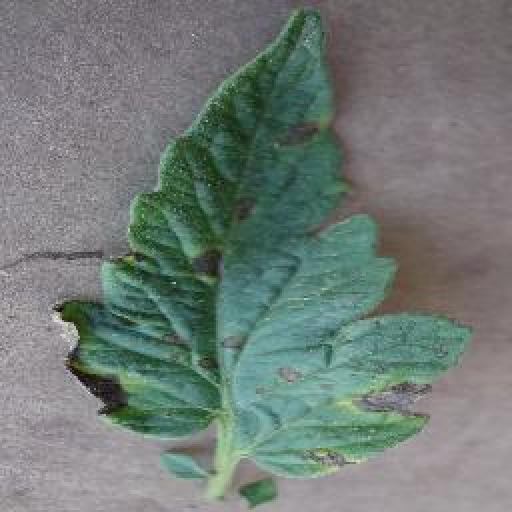Early Blight: (50, 5, 476, 475)
